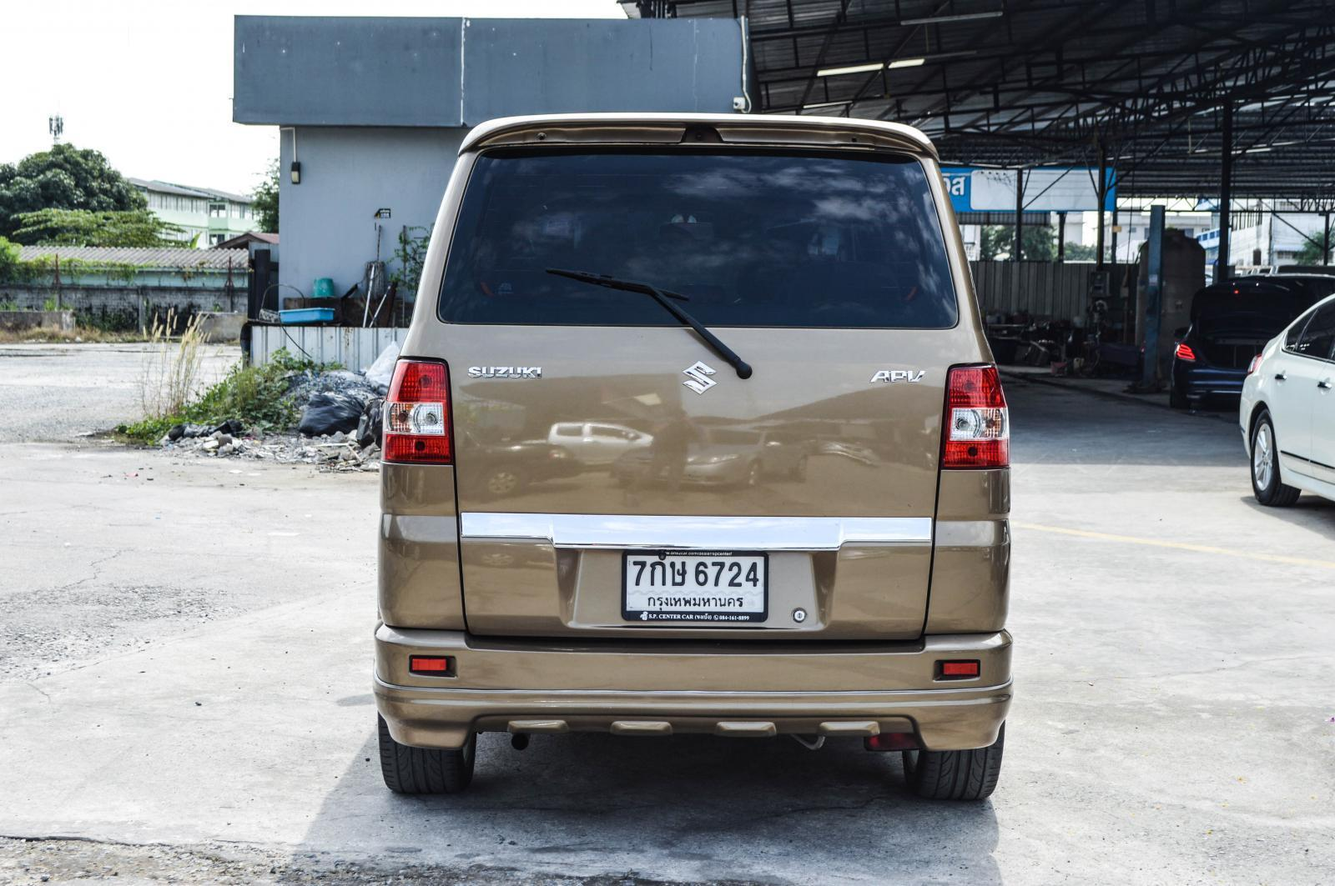license-plate: (619, 547, 773, 628)
